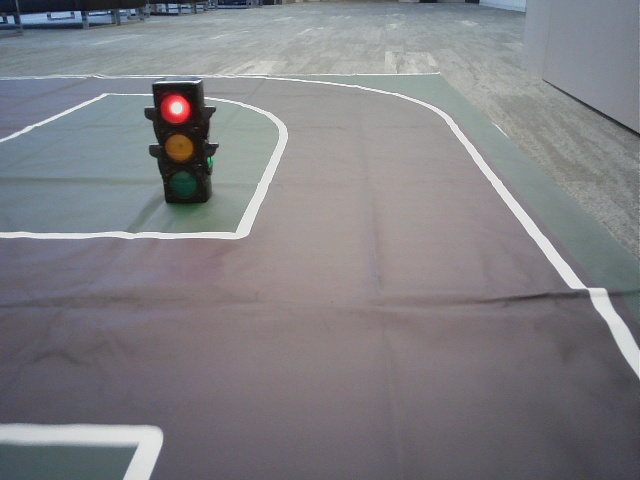red: (156, 88, 200, 201)
